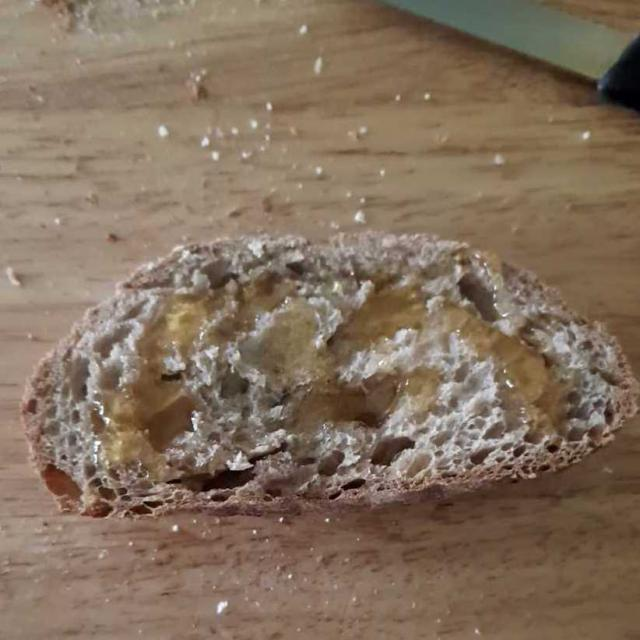bread: (31, 238, 629, 510)
honey: (89, 267, 567, 459)
